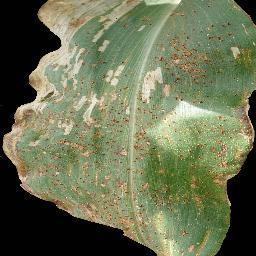Corn_Common_Rust: (129, 0, 256, 256), (67, 0, 129, 236), (33, 0, 67, 212), (8, 100, 34, 198)
